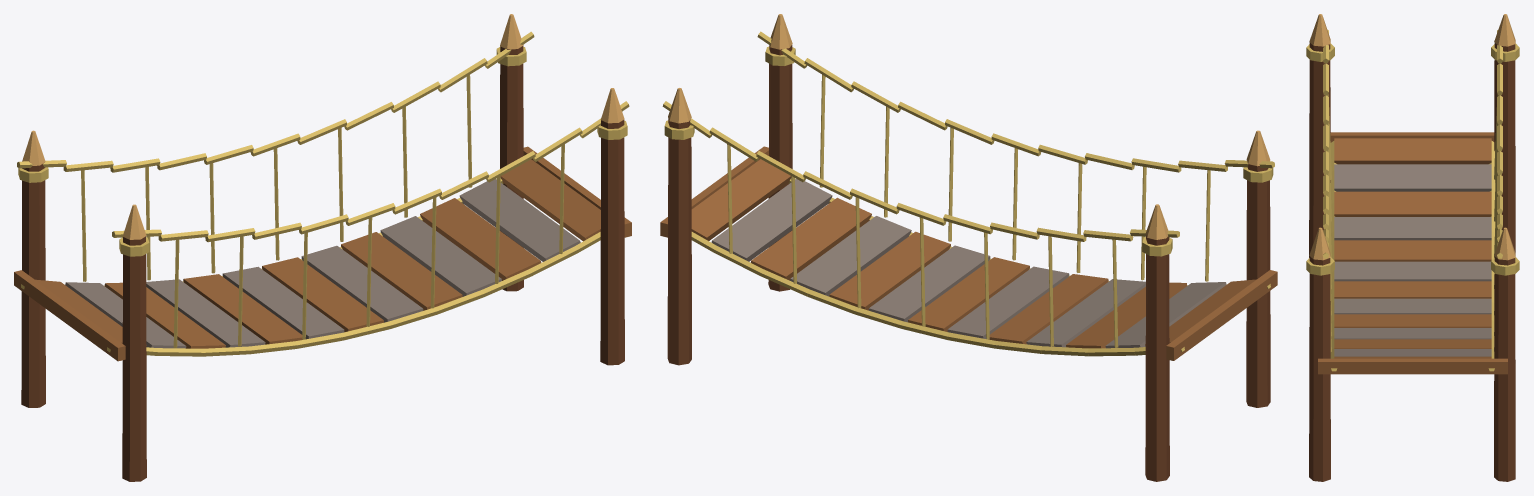
The model's file is bridge_rope 2.glb.
The picture shows the model from 3 angles, left to right: view 1: azimuth 30°, elevation 25°; view 2: azimuth 150°, elevation 25°; view 3: azimuth 270°, elevation 25°; orthographic projection. The views are drawn at different scales.
Parts seen in each view (by area): view 1: End_Post_2_Shaft, End_Post_0_Shaft, End_Post_1_Shaft, Tread_11, Tread_10, Tread_9, Tread_8, Tread_12, Tread_7, Tread_6, Tread_5, Tread_4 (+7 smaller); view 2: End_Post_1_Shaft, End_Post_3_Shaft, End_Post_0_Shaft, Tread_11, Tread_10, Tread_9, Tread_8, Tread_12, Tread_7, Tread_6, Tread_5, Tread_4 (+7 smaller); view 3: End_Post_2_Shaft, End_Post_3_Shaft, Tread_1, Tread_0, Tread_2, Tread_3, Tread_4, Tread_5, Sill_1, Tread_6, End_Post_0_Shaft, End_Post_1_Shaft (+15 smaller).
Boxes of the visible parts, x1,y1,x2,y2 form: End_Post_2_Shaft: [600, 120, 624, 365]; End_Post_0_Shaft: [122, 236, 146, 481]; End_Post_1_Shaft: [21, 163, 45, 407]; Tread_11: [459, 179, 580, 261]; Tread_10: [420, 198, 541, 280]; Tread_9: [380, 216, 501, 296]; Tread_8: [341, 232, 462, 310]; Tread_12: [500, 159, 600, 241]; Tread_7: [301, 245, 423, 322]; Tread_6: [262, 257, 383, 332]; Tread_5: [222, 266, 344, 339]; Tread_4: [183, 274, 302, 344]; End_Post_1_Shaft: [1145, 235, 1169, 481]; End_Post_3_Shaft: [667, 118, 691, 365]; End_Post_0_Shaft: [1246, 164, 1270, 407]; Tread_11: [711, 179, 832, 261]; Tread_10: [750, 197, 871, 279]; Tread_9: [790, 216, 911, 296]; Tread_8: [829, 231, 950, 310]; Tread_12: [691, 159, 791, 240]; Tread_7: [868, 245, 990, 322]; Tread_6: [908, 257, 1029, 331]; Tread_5: [947, 266, 1069, 338]; Tread_4: [988, 274, 1108, 344]; End_Post_2_Shaft: [1309, 256, 1330, 481]; End_Post_3_Shaft: [1494, 256, 1515, 481]; Tread_1: [1334, 164, 1491, 191]; Tread_0: [1334, 138, 1491, 164]; Tread_2: [1334, 191, 1491, 216]; Tread_3: [1334, 217, 1491, 240]; Tread_4: [1334, 240, 1491, 261]; Tread_5: [1334, 261, 1491, 281]; Sill_1: [1318, 358, 1507, 374]; Tread_6: [1334, 281, 1491, 298]; End_Post_0_Shaft: [1309, 42, 1330, 257]; End_Post_1_Shaft: [1494, 43, 1515, 252].
Bounding box in the file's own units: 4.01 × 2.02 × 1.57.
